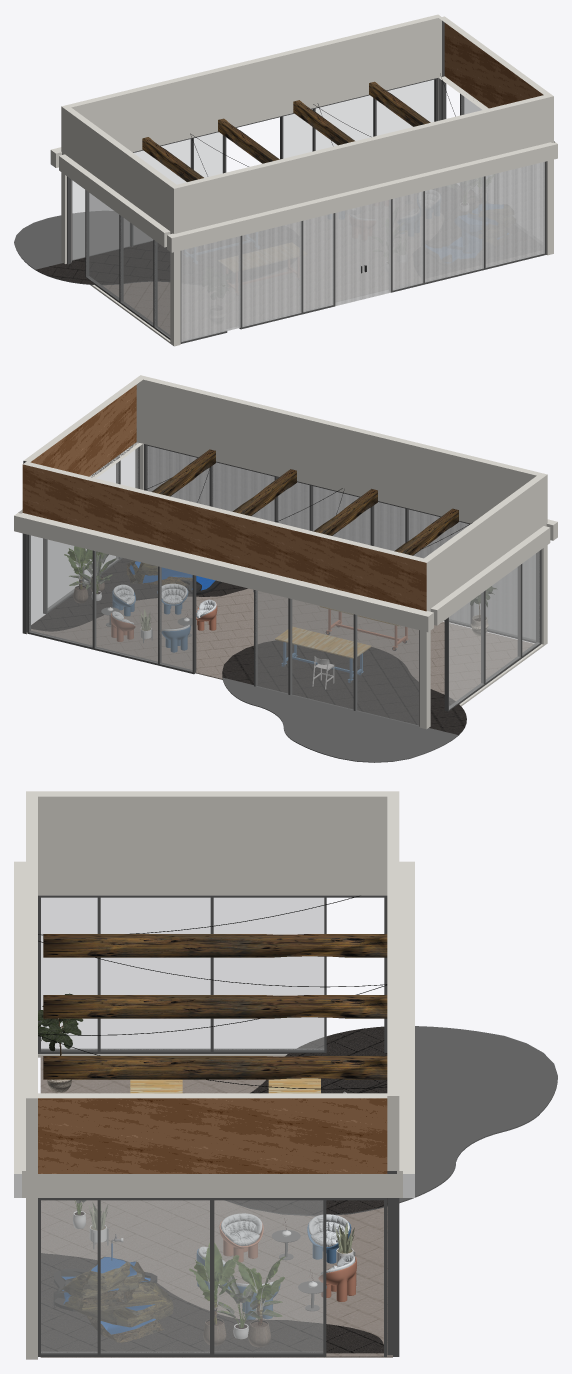
File: discover_06.glb
3 renders of one model, top to bottom at view 1: azimuth 30°, elevation 25°; view 2: azimuth 150°, elevation 25°; view 3: azimuth 270°, elevation 25°, orthographic. The views are drawn at different scales.
Visible parts, largest first — view 1: inner_room_wall, inner_room_carpet_00, Mesh250 System_Panel___Glazed_7239511__3D___cdiogoV84U4__2_1, Mesh246 System_Panel___Glazed_7239507__3D___cdiogoV84U4__3_1, Mesh248 System_Panel___Glazed_7239506__3D___cdiogoV84U4__2_1, Mesh247 System_Panel___Glazed_7239507__3D___cdiogoV84U4__2_1, inner_room_bars, Mesh251 System_Panel___Glazed_7239508__3D___cdiogoV84U4__2_1, Mesh172 System_Panel___Glazed_7239430__3D___cdiogoV84U4_1 Gr, Mesh249 System_Panel___Glazed_7239510__3D___cdiogoV84U4__2_1, Mesh173 System_Panel___Glazed_7239432__3D___cdiogoV84U4_1 Gr, Mesh245 System_Panel___Glazed_7239511__3D___cdiogoV84U4__3_1 (+13 smaller); view 2: inner_room_wall, inner_room_carpet_00, inner_room_floor, Mesh242 System_Panel___Glazed_7239506__3D___cdiogoV84U4_1 Gr, Mesh244 System_Panel___Glazed_7239507__3D___cdiogoV84U4_2 Gr, Mesh245 System_Panel___Glazed_7239511__3D___cdiogoV84U4__3_1, Mesh241 System_Panel___Glazed_7239507__3D___cdiogoV84U4_1 Gr, inner_room_bars, chairs_set, Mesh173 System_Panel___Glazed_7239432__3D___cdiogoV84U4_1 Gr, Mesh243 System_Panel___Glazed_7239508__3D___cdiogoV84U4_1 Gr, Mesh172 System_Panel___Glazed_7239430__3D___cdiogoV84U4_1 Gr (+23 smaller); view 3: inner_room_wall, inner_room_floor, inner_room_bars, inner_room_carpet_00, Mesh171 System_Panel___Glazed_7239474__3D___cdiogoV84U4_1 Gr, Mesh168 System_Panel___Glazed_7239473__3D___cdiogoV84U4_1 Gr, Mesh172 System_Panel___Glazed_7239430__3D___cdiogoV84U4_1 Gr, Mesh173 System_Panel___Glazed_7239432__3D___cdiogoV84U4_1 Gr, inner_room_carpet_01, Mesh169 System_Panel___Glazed_7239428__3D___cdiogoV84U4_1 Gr, fountain, chairs_set (+11 smaller).
Boxes of the visible parts, x1,y1,x2,y2 form: inner_room_wall: (50,14,557,346); inner_room_carpet_00: (14,211,170,285); Mesh250 System_Panel___Glazed_7239511__3D___cdiogoV84U4__2_1: (181,236,240,341); Mesh246 System_Panel___Glazed_7239507__3D___cdiogoV84U4__3_1: (242,221,301,327); Mesh248 System_Panel___Glazed_7239506__3D___cdiogoV84U4__2_1: (485,162,544,267); Mesh247 System_Panel___Glazed_7239507__3D___cdiogoV84U4__2_1: (425,176,483,282); inner_room_bars: (142,81,430,181); Mesh251 System_Panel___Glazed_7239508__3D___cdiogoV84U4__2_1: (392,191,423,290); Mesh172 System_Panel___Glazed_7239430__3D___cdiogoV84U4_1 Gr: (86,191,119,299); Mesh249 System_Panel___Glazed_7239510__3D___cdiogoV84U4__2_1: (303,213,333,312); Mesh173 System_Panel___Glazed_7239432__3D___cdiogoV84U4_1 Gr: (120,216,153,324); Mesh245 System_Panel___Glazed_7239511__3D___cdiogoV84U4__3_1: (72,180,129,259); inner_room_wall: (14,375,557,729); inner_room_carpet_00: (222,640,466,762); inner_room_floor: (31,588,533,700); Mesh242 System_Panel___Glazed_7239506__3D___cdiogoV84U4_1 Gr: (29,535,92,646); Mesh244 System_Panel___Glazed_7239507__3D___cdiogoV84U4_2 Gr: (290,599,353,709); Mesh245 System_Panel___Glazed_7239511__3D___cdiogoV84U4__3_1: (355,615,418,725); Mesh241 System_Panel___Glazed_7239507__3D___cdiogoV84U4_1 Gr: (95,551,157,663); inner_room_bars: (152,449,458,555); chairs_set: (101,583,217,652); Mesh173 System_Panel___Glazed_7239432__3D___cdiogoV84U4_1 Gr: (485,565,520,682); Mesh243 System_Panel___Glazed_7239508__3D___cdiogoV84U4_1 Gr: (159,567,192,671); Mesh172 System_Panel___Glazed_7239430__3D___cdiogoV84U4_1 Gr: (449,592,483,709); inner_room_wall: (14,791,414,1359); inner_room_floor: (40,1056,392,1357); inner_room_bars: (43,934,387,1079); inner_room_carpet_00: (225,1026,557,1216); Mesh171 System_Panel___Glazed_7239474__3D___cdiogoV84U4_1 Gr: (100,1200,209,1352); Mesh168 System_Panel___Glazed_7239473__3D___cdiogoV84U4_1 Gr: (214,1200,323,1352); Mesh172 System_Panel___Glazed_7239430__3D___cdiogoV84U4_1 Gr: (213,897,324,1049); Mesh173 System_Panel___Glazed_7239432__3D___cdiogoV84U4_1 Gr: (100,897,210,1049); inner_room_carpet_01: (41,1253,383,1353); Mesh169 System_Panel___Glazed_7239428__3D___cdiogoV84U4_1 Gr: (41,1200,97,1352); fountain: (53,1234,173,1342); chairs_set: (196,1213,356,1319).
Size of the model in its own units: 529 by 196 by 368.
Materials: 50 (28 with a texture image).
